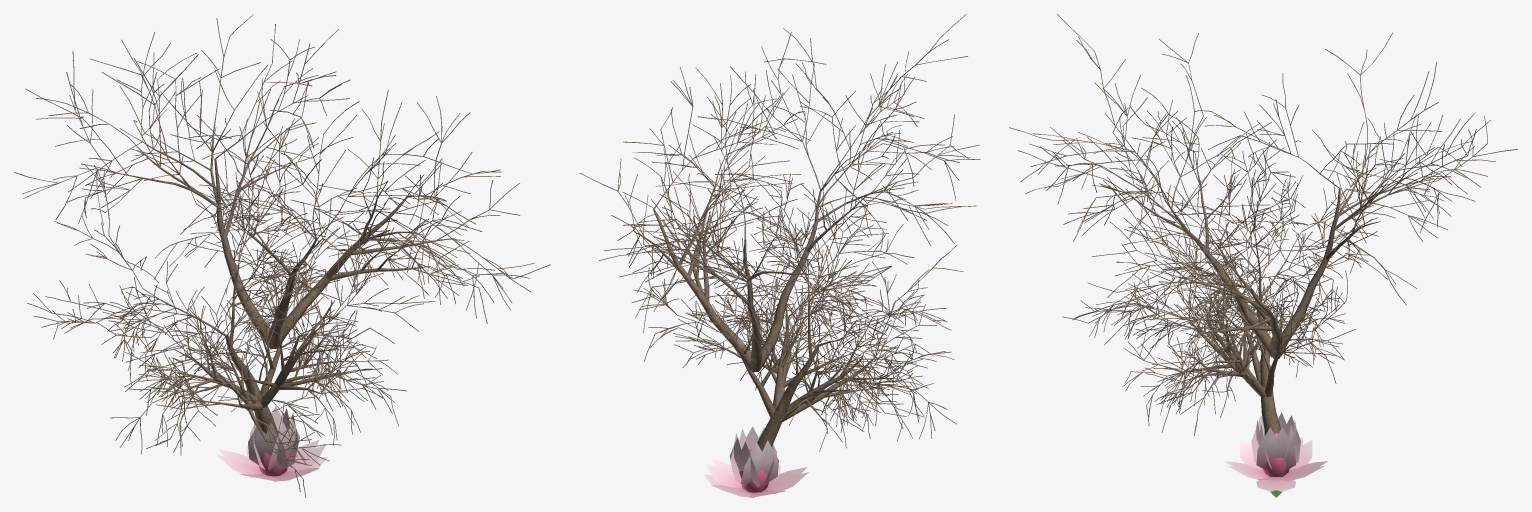
Rendered from sakura_tree.glb.
The picture shows the model from 3 angles, left to right: view 1: azimuth 30°, elevation 25°; view 2: azimuth 150°, elevation 25°; view 3: azimuth 270°, elevation 25°; orthographic projection. The views are drawn at different scales.
Parts seen in each view (by area): view 1: WEB_Trunk, WEB_Half, WEB_Full; view 2: WEB_Trunk, WEB_Half, WEB_Full; view 3: WEB_Trunk, WEB_Half, WEB_Full.
Boxes of the visible parts, box(x1,y1,x2,y2) form: WEB_Trunk: box(14, 14, 550, 497); WEB_Half: box(248, 406, 299, 471); WEB_Full: box(216, 440, 325, 481); WEB_Trunk: box(579, 14, 980, 492); WEB_Half: box(729, 426, 778, 487); WEB_Full: box(705, 458, 808, 497); WEB_Trunk: box(1009, 14, 1517, 476); WEB_Half: box(1251, 412, 1300, 470); WEB_Full: box(1224, 437, 1327, 481).
Bounding box in the file's own units: 8.16 × 8.33 × 9.18.
Materials: 2 (1 with a texture image).
